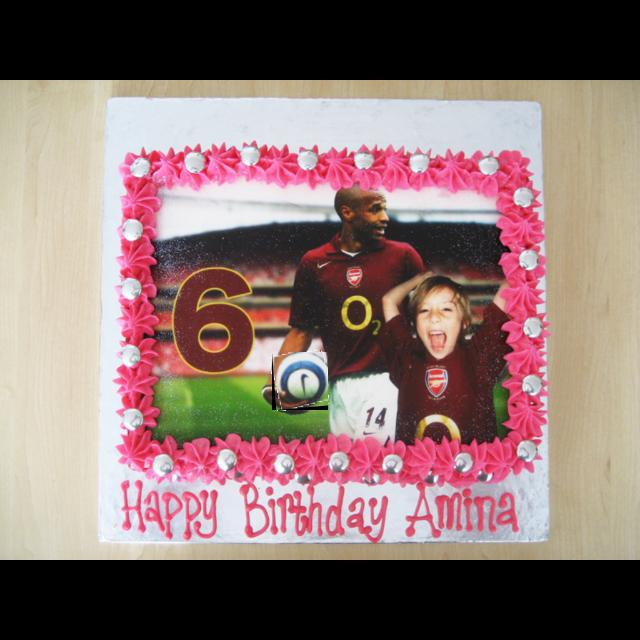Football: (272, 352, 328, 410)
